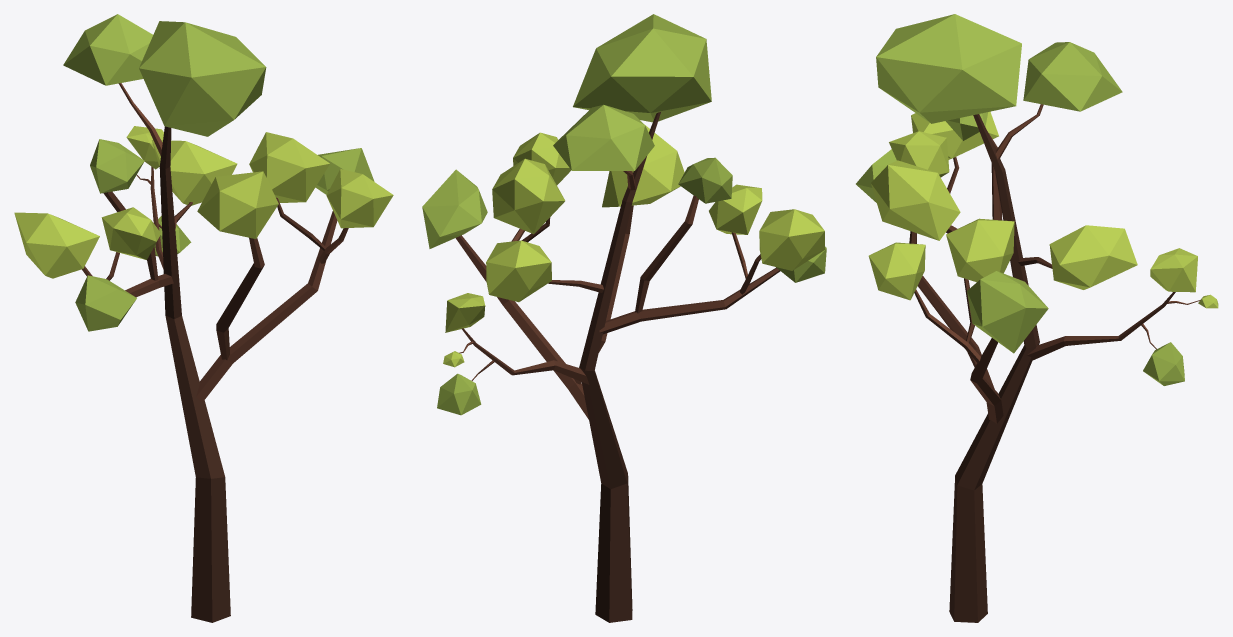
Rendered from TreeSycamore_01.fbx.
The picture shows the model from 3 angles, left to right: view 1: azimuth 30°, elevation 25°; view 2: azimuth 150°, elevation 25°; view 3: azimuth 270°, elevation 25°; orthographic projection. The views are drawn at different scales.
Visible parts, largest first — view 1: TreeSycamore_01; view 2: TreeSycamore_01; view 3: TreeSycamore_01.
Boxes of the visible parts, box(x1,y1,x2,y2) form: TreeSycamore_01: box(14, 14, 393, 622); TreeSycamore_01: box(422, 14, 826, 622); TreeSycamore_01: box(856, 14, 1218, 622).
Bounding box in the file's own units: 370 × 575 × 322.
